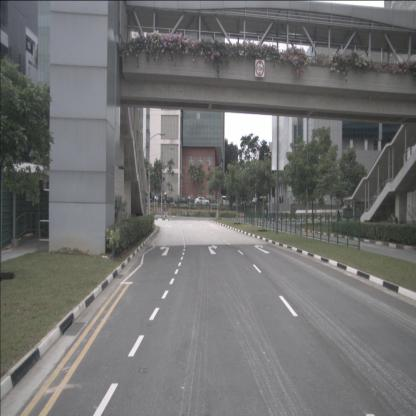human-pedestrian-adult: (336, 210, 340, 231), (264, 208, 267, 223)
vehicle-car: (195, 196, 210, 206), (220, 196, 233, 206), (158, 194, 170, 204), (240, 198, 252, 207), (175, 197, 188, 205), (143, 196, 152, 203)
